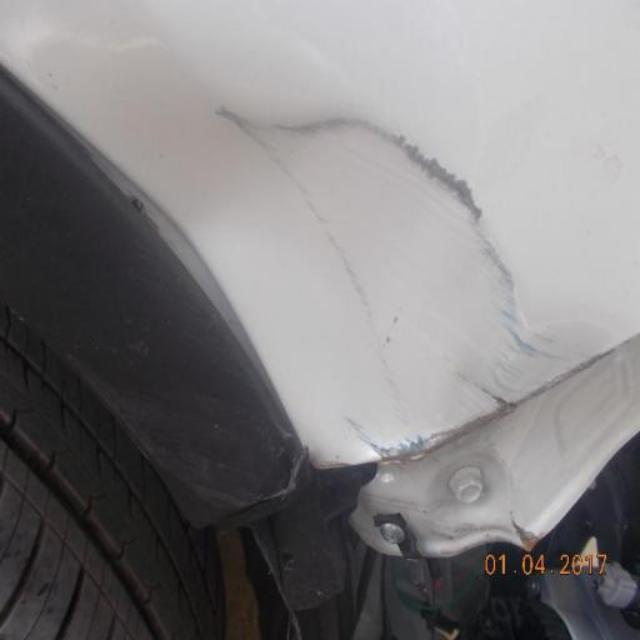crack: (208, 93, 631, 470), (440, 501, 544, 554)
